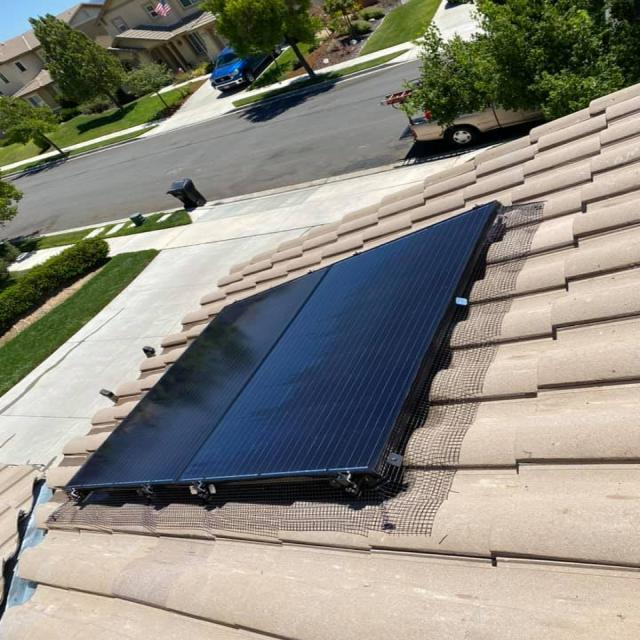clean-solar-panel: (67, 202, 498, 498)
